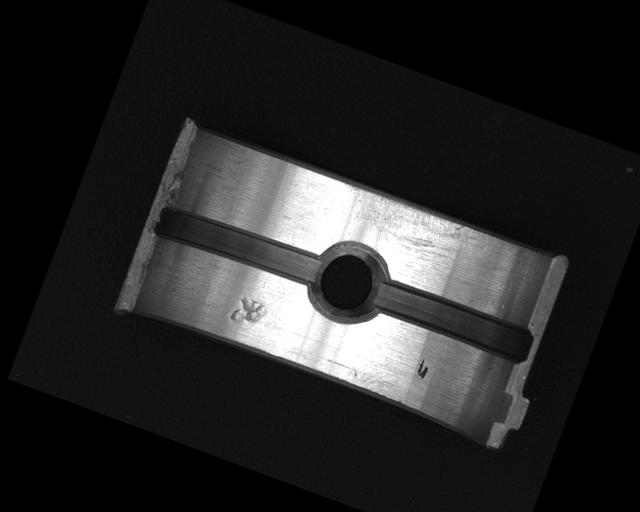blot: (415, 358, 432, 380)
bruise: (228, 293, 269, 332)
gap: (149, 196, 325, 297), (367, 273, 537, 368)
hole: (298, 231, 397, 334)
scratch: (329, 181, 494, 281)
